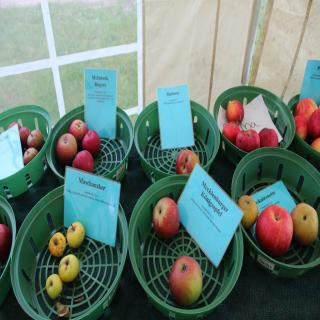Apple: (257, 203, 296, 257), (170, 257, 202, 306), (290, 203, 319, 244), (153, 196, 181, 238), (236, 194, 259, 230), (293, 98, 318, 123), (176, 148, 200, 172), (236, 128, 260, 152), (71, 151, 94, 175), (59, 253, 79, 280), (82, 130, 101, 158), (56, 135, 77, 160), (68, 119, 88, 143), (226, 101, 245, 126), (67, 221, 85, 246), (45, 273, 62, 299), (259, 126, 278, 148), (50, 232, 66, 257), (294, 114, 309, 140), (222, 122, 240, 143), (26, 129, 43, 149), (308, 108, 320, 136), (0, 224, 11, 252), (23, 148, 38, 166), (19, 125, 30, 143), (309, 136, 320, 150), (7, 122, 22, 131), (318, 105, 320, 108)
